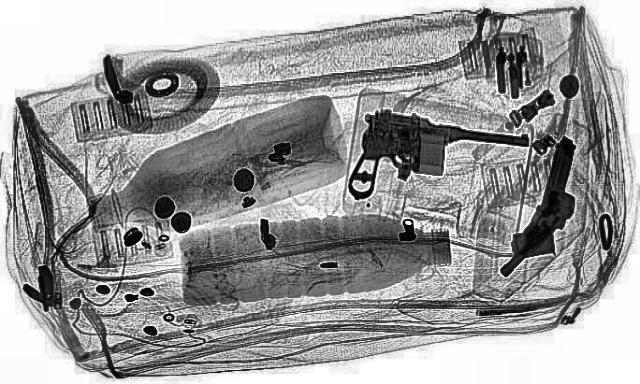Gun: (340, 104, 536, 208), (492, 135, 604, 284)
